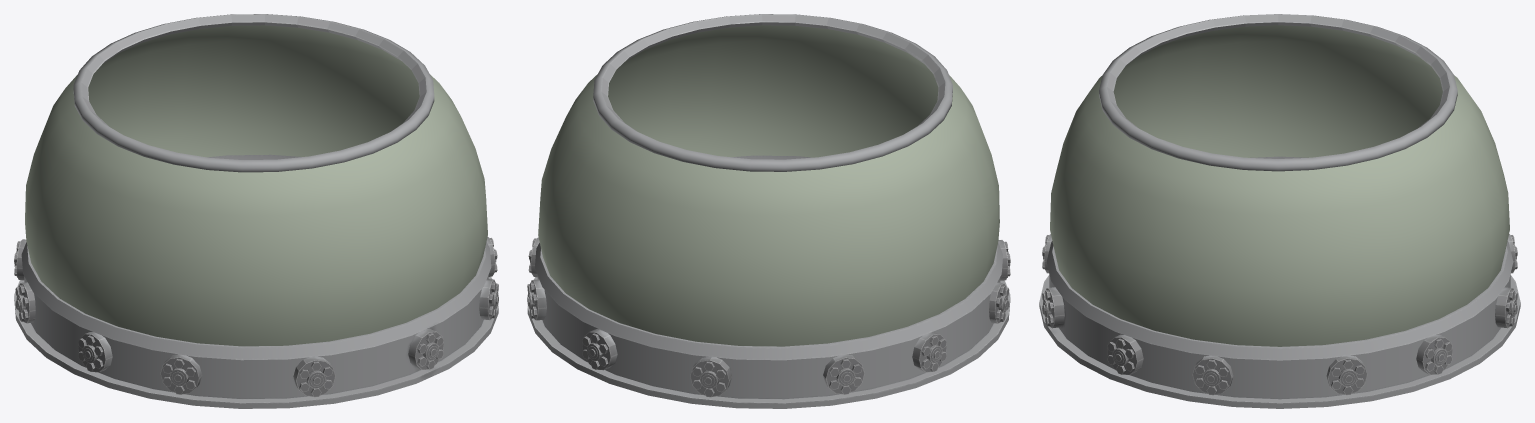
The model's file is DomeFull.fbx.
3 views of the same model, side by side, from view 1: azimuth 30°, elevation 25°; view 2: azimuth 150°, elevation 25°; view 3: azimuth 270°, elevation 25° (orthographic).
Parts seen in each view (by area): view 1: Cylinder.001, Cylinder, Cylinder.010, Cylinder.006, Cylinder.002, Cylinder.005; view 2: Cylinder.001, Cylinder, Cylinder.010, Cylinder.006, Cylinder.002, Cylinder.005; view 3: Cylinder.001, Cylinder, Cylinder.010, Cylinder.005, Cylinder.002, Cylinder.006.
Boxes of the visible parts, x1=… form: Cylinder.001: x1=25, y1=25, x2=487, y2=346; Cylinder: x1=14, y1=154, x2=498, y2=408; Cylinder.010: x1=73, y1=14, x2=434, y2=172; Cylinder.006: x1=293, y1=328, x2=443, y2=397; Cylinder.002: x1=14, y1=239, x2=498, y2=394; Cylinder.005: x1=15, y1=237, x2=497, y2=372; Cylinder.001: x1=538, y1=25, x2=999, y2=346; Cylinder: x1=527, y1=155, x2=1010, y2=408; Cylinder.010: x1=593, y1=14, x2=952, y2=171; Cylinder.006: x1=582, y1=329, x2=732, y2=397; Cylinder.002: x1=527, y1=240, x2=1010, y2=394; Cylinder.005: x1=528, y1=237, x2=1009, y2=372; Cylinder.001: x1=1050, y1=25, x2=1509, y2=346; Cylinder: x1=1039, y1=156, x2=1520, y2=408; Cylinder.010: x1=1099, y1=14, x2=1457, y2=171; Cylinder.005: x1=1192, y1=355, x2=1367, y2=395; Cylinder.002: x1=1107, y1=334, x2=1452, y2=374; Cylinder.006: x1=1042, y1=234, x2=1517, y2=328.
Size of the model in its own units: 1838 by 924 by 1838.
